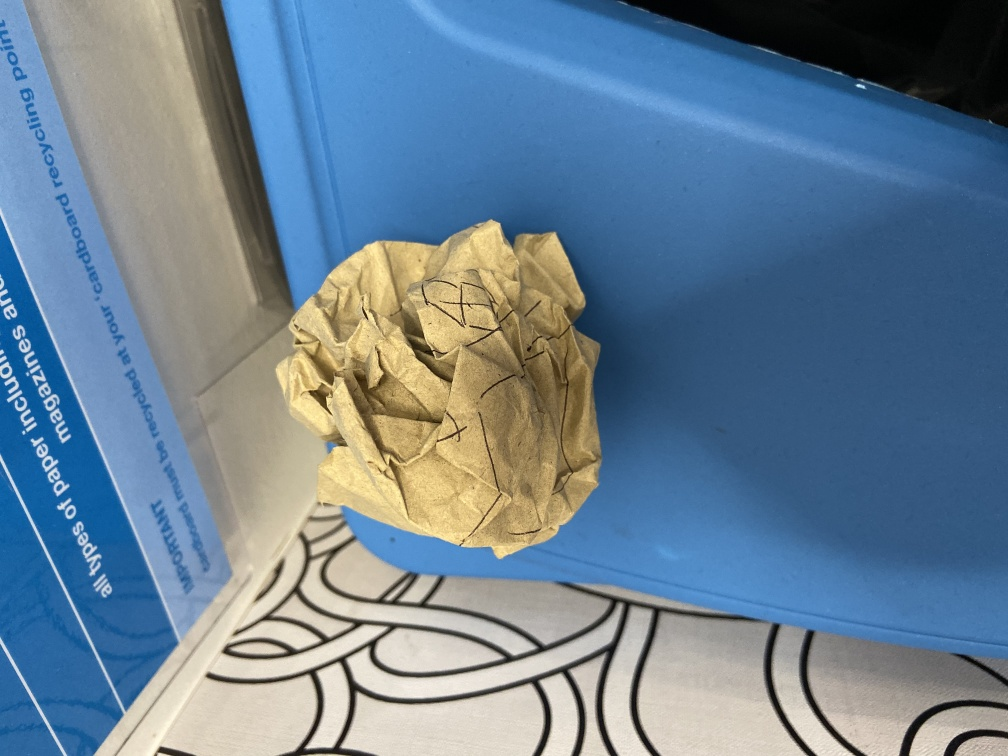paper_brown: (268, 214, 612, 565)
